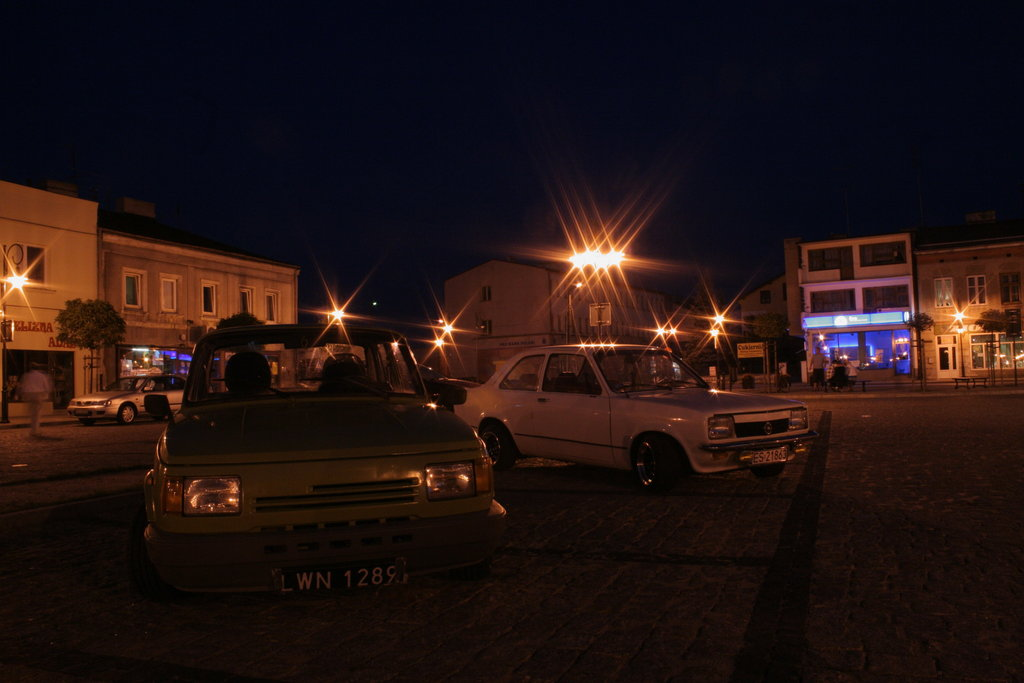car: (67, 367, 204, 434)
